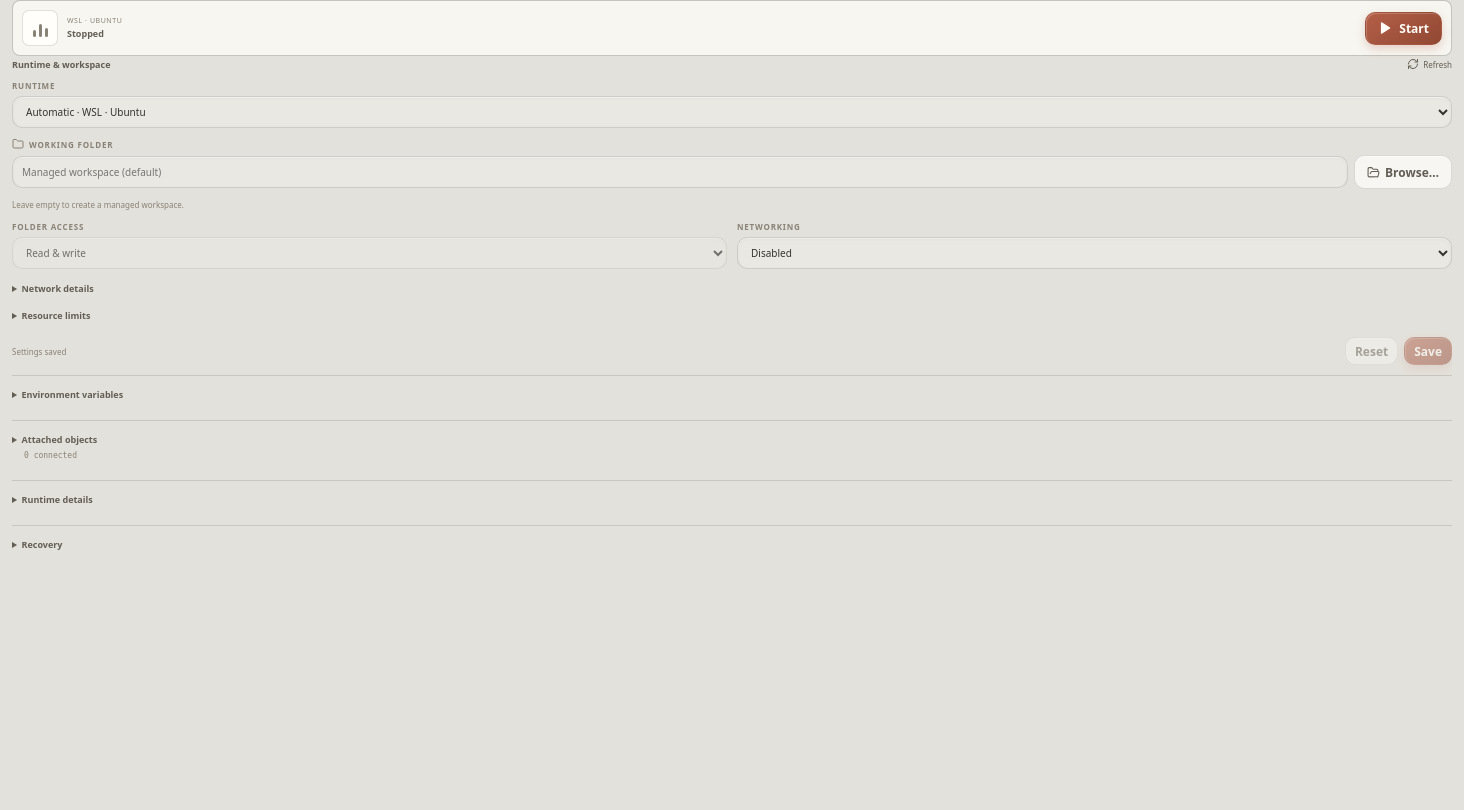
it: sandbox configuration UI › keeps a rejected draft visible and blocks start until it is saved or reset
The width and height of the screenshot is (1464, 810).
In the field named "Working folder": (680, 172) [12,156,1348,188], type "D:\\missing"
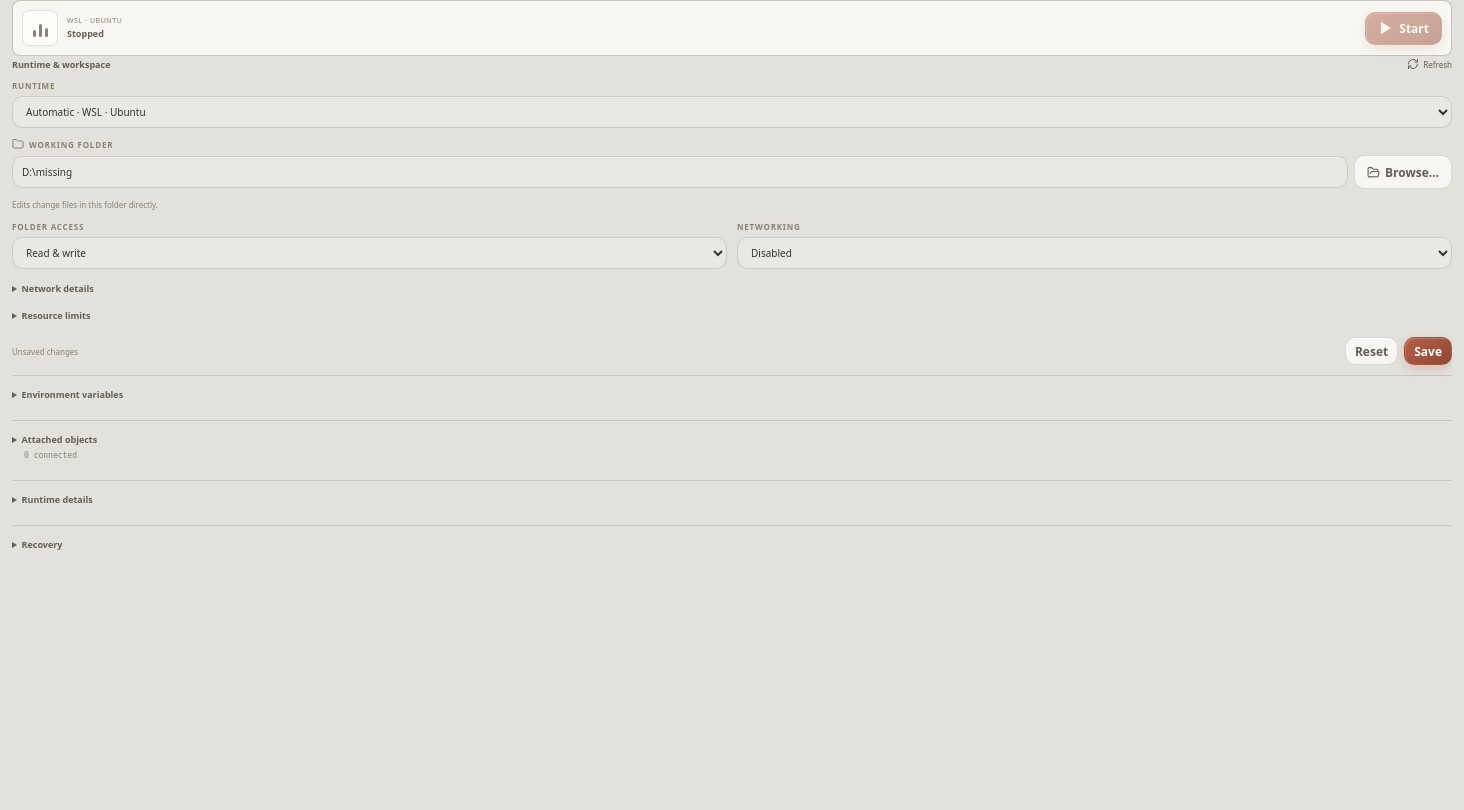
Expected: the text "Edits change files in this folder directly." is shown, [12,199,158,210]
Expected: the button "Start" is disabled, [1365,12,1442,44]
Click the button "Save": click(1428, 351) [1404,337,1452,365]
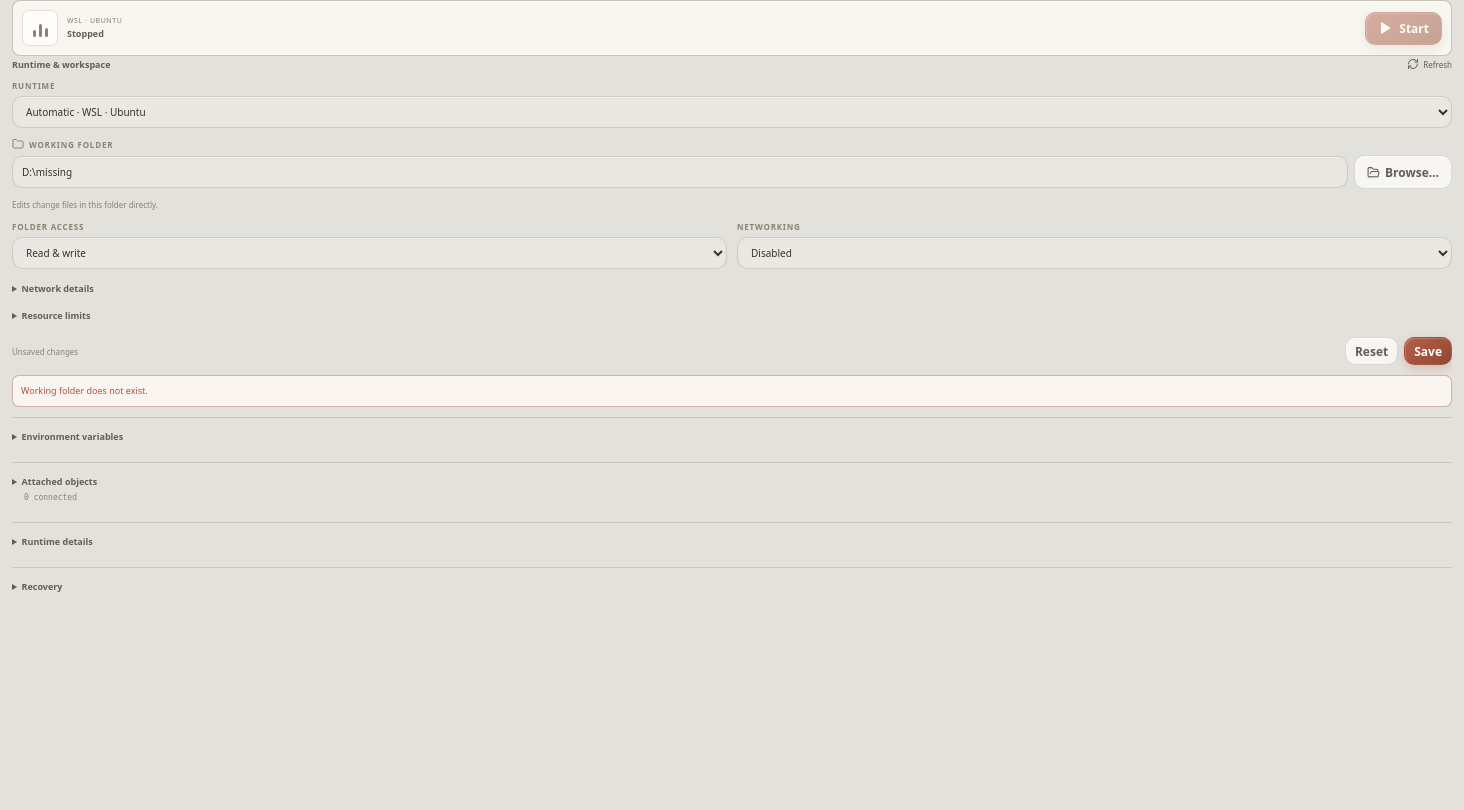
Expected: the text "Unsaved changes" is shown, [12,346,78,356]
Expected: the message "Working folder does not exist." is shown, [12,375,1452,406]
Click the button "Reset": click(1372, 351) [1345,337,1398,365]
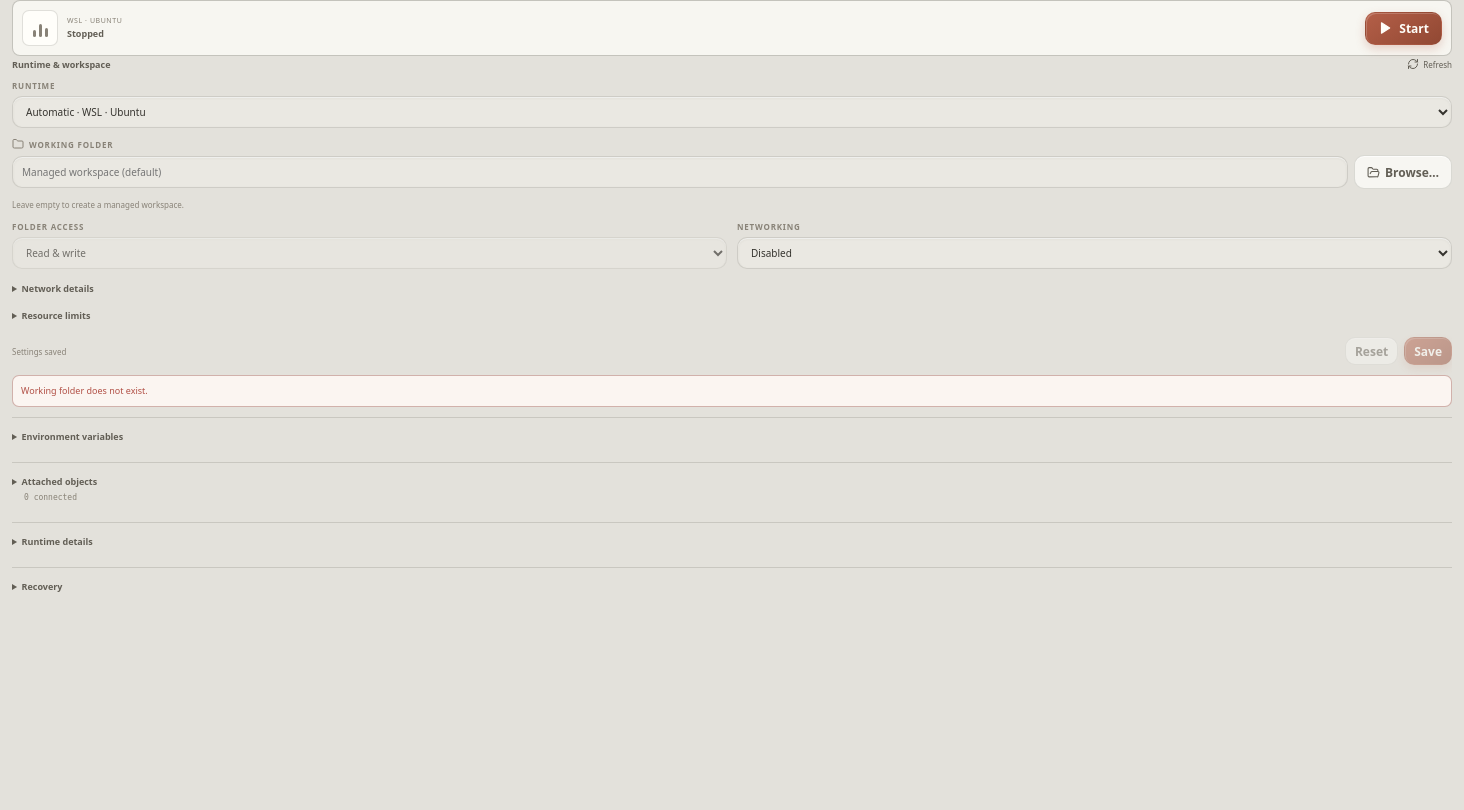
Expected: the field named "Working folder" is empty, [12,156,1348,188]
Expected: the button "Start" is enabled, [1365,12,1442,44]
